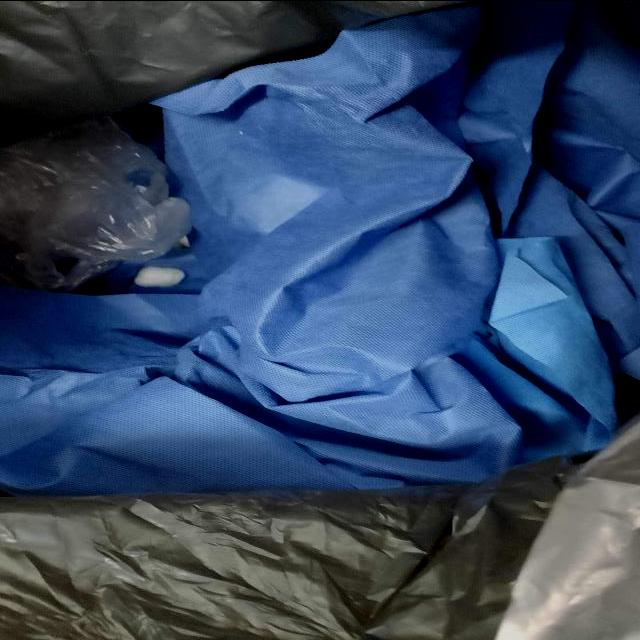General: (2, 3, 636, 499), (1, 418, 636, 639)
Infectious: (0, 113, 193, 293)
Sharps: (132, 265, 186, 289)
